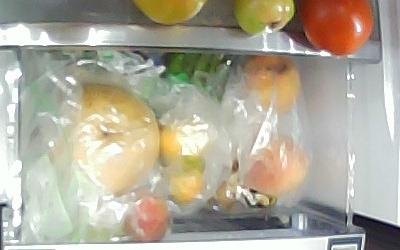peach_vinyl: (240, 136, 306, 195), (242, 55, 302, 113)
pear_vinyl: (74, 83, 159, 193)
tangerine_vinyl: (160, 121, 208, 167), (166, 162, 205, 204)
tomato_vinyl: (124, 195, 170, 243)
